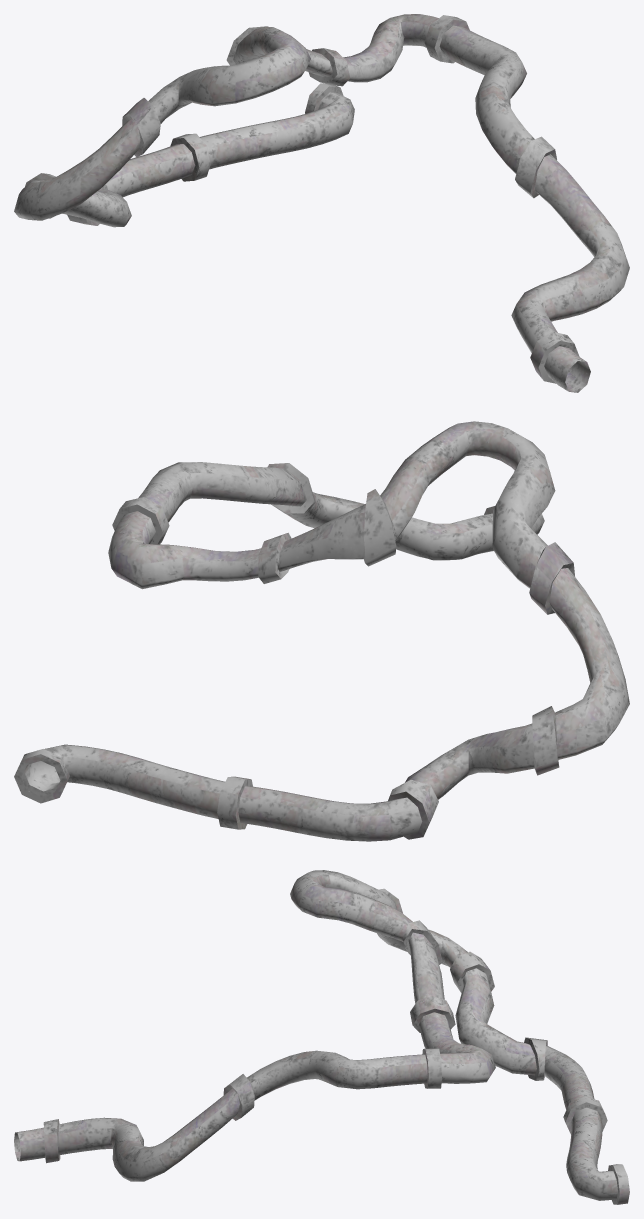
The model's file is pipe_walk.glb.
3 renders of one model, top to bottom at view 1: azimuth 30°, elevation 25°; view 2: azimuth 150°, elevation 25°; view 3: azimuth 270°, elevation 25°, orthographic. The views are drawn at different scales.
Visible parts, largest first — view 1: pipe_walk; view 2: pipe_walk; view 3: pipe_walk.
Part boxes in pixels (x1,y1,x2,y2): pipe_walk: [14, 14, 629, 392]; pipe_walk: [14, 421, 629, 841]; pipe_walk: [14, 870, 629, 1204].
Bounding box in the file's own units: 4.47 × 2.44 × 5.95.
Materials: 1 (1 with a texture image).
